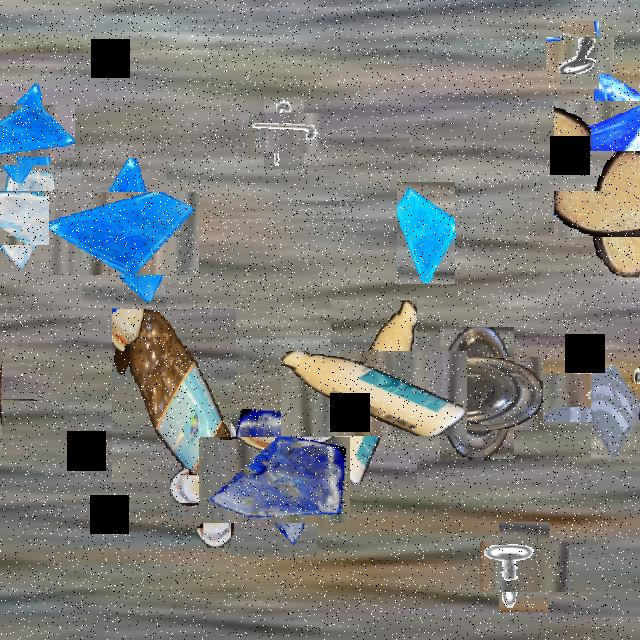glass: (214, 420, 334, 540), (66, 175, 182, 291), (591, 336, 640, 464), (571, 82, 640, 169), (397, 182, 455, 284), (0, 178, 67, 258), (0, 93, 63, 169)
metal: (489, 532, 559, 602), (548, 365, 616, 431), (256, 106, 312, 161), (554, 29, 606, 81)
plastic: (112, 310, 236, 483), (306, 325, 442, 461), (426, 342, 528, 444), (183, 455, 261, 533)
wood: (573, 170, 640, 256), (0, 371, 30, 429)
